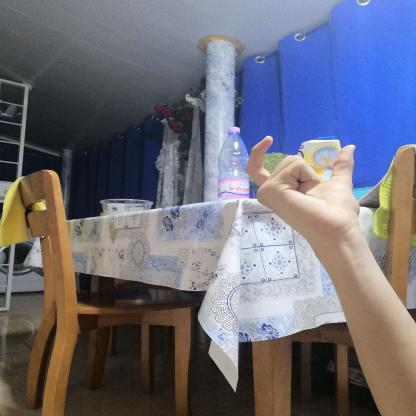NOON: (230, 130, 379, 248)
